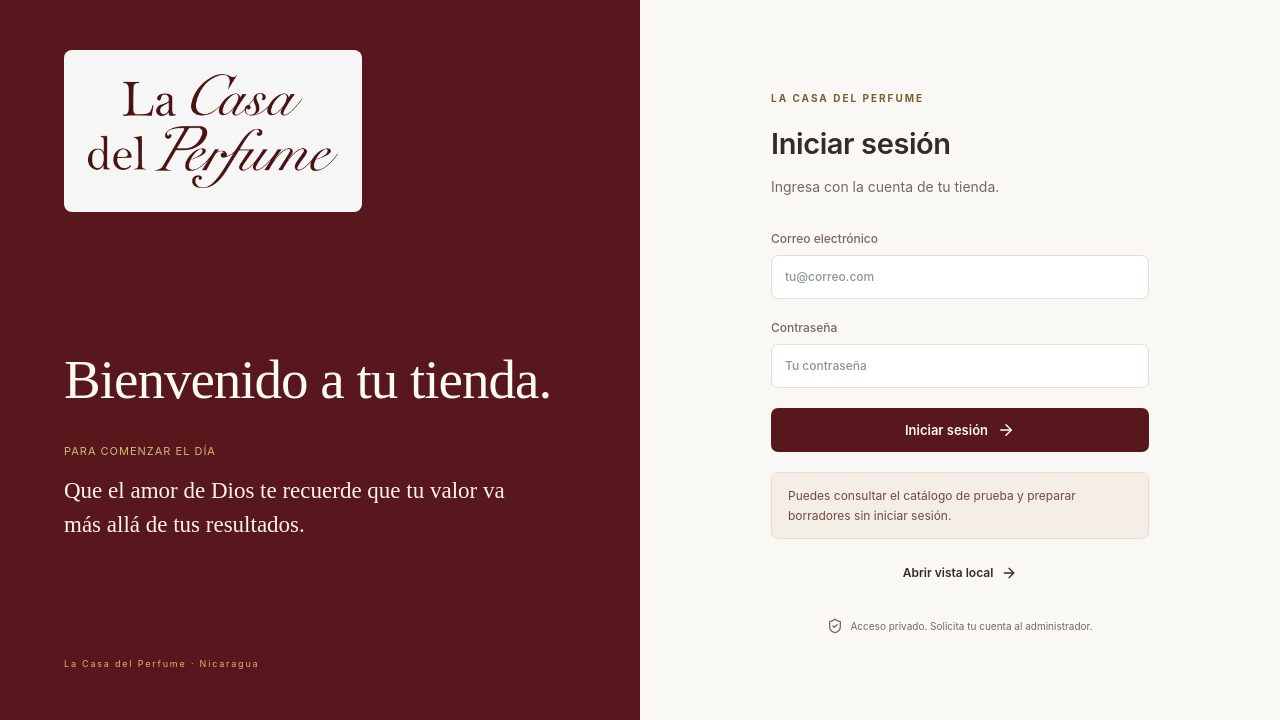
Test: auth flow › handles invalid credentials in the login form
Type "test@example.test" into the field labelled "Correo electrónico" at (960, 277), box [771, 255, 1149, 299]
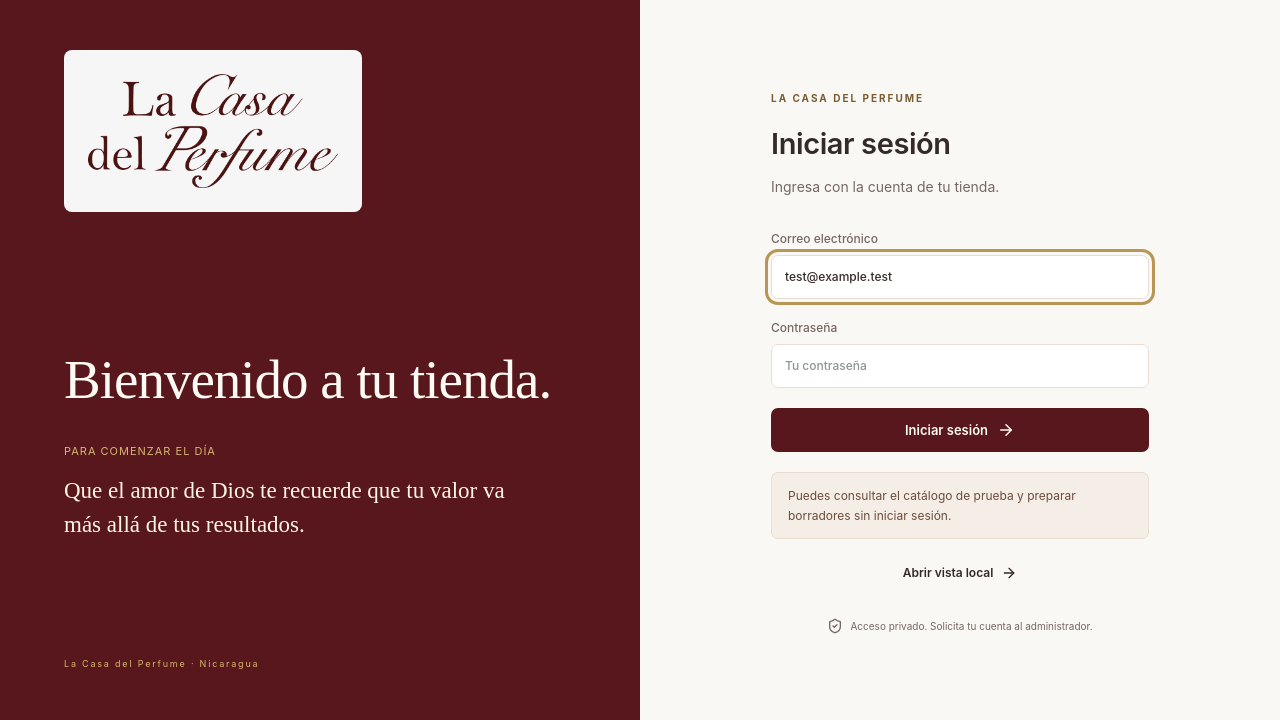
Type "not-a-real-password" into the password field labelled "Contraseña" at (960, 366), box [771, 344, 1149, 388]
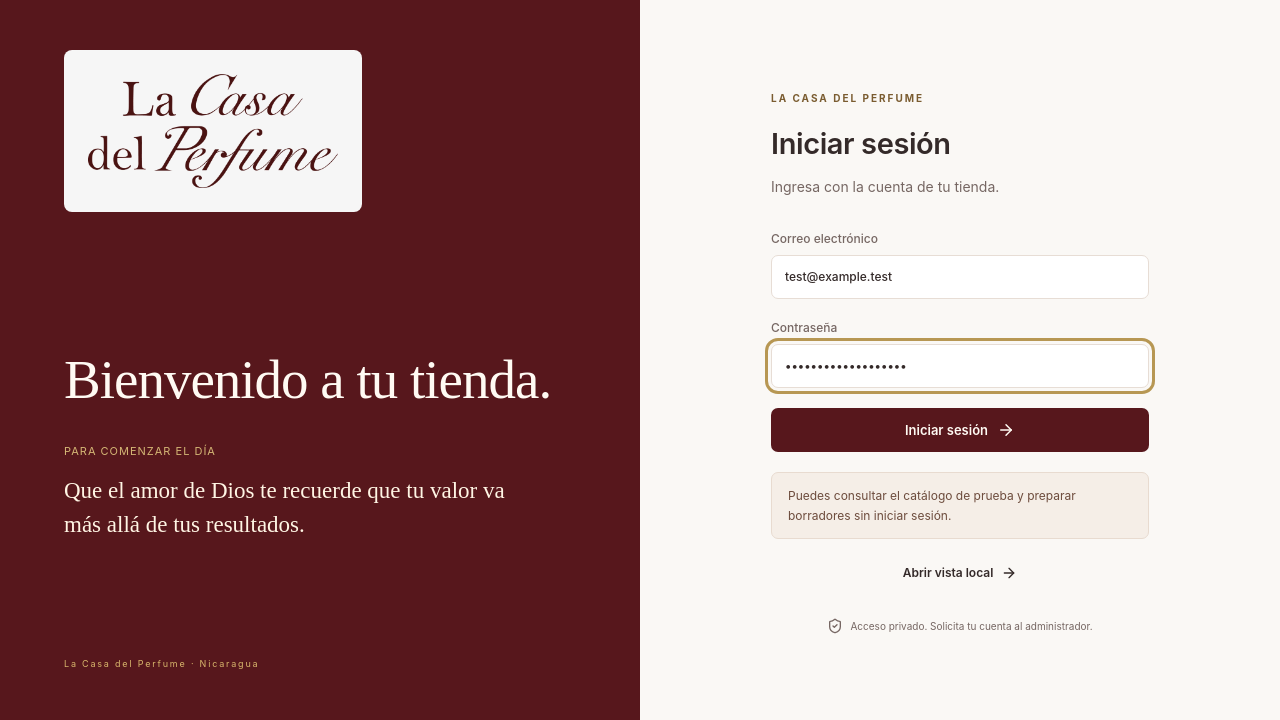
Click the button "Iniciar sesión" at (960, 430), box [771, 408, 1149, 452]
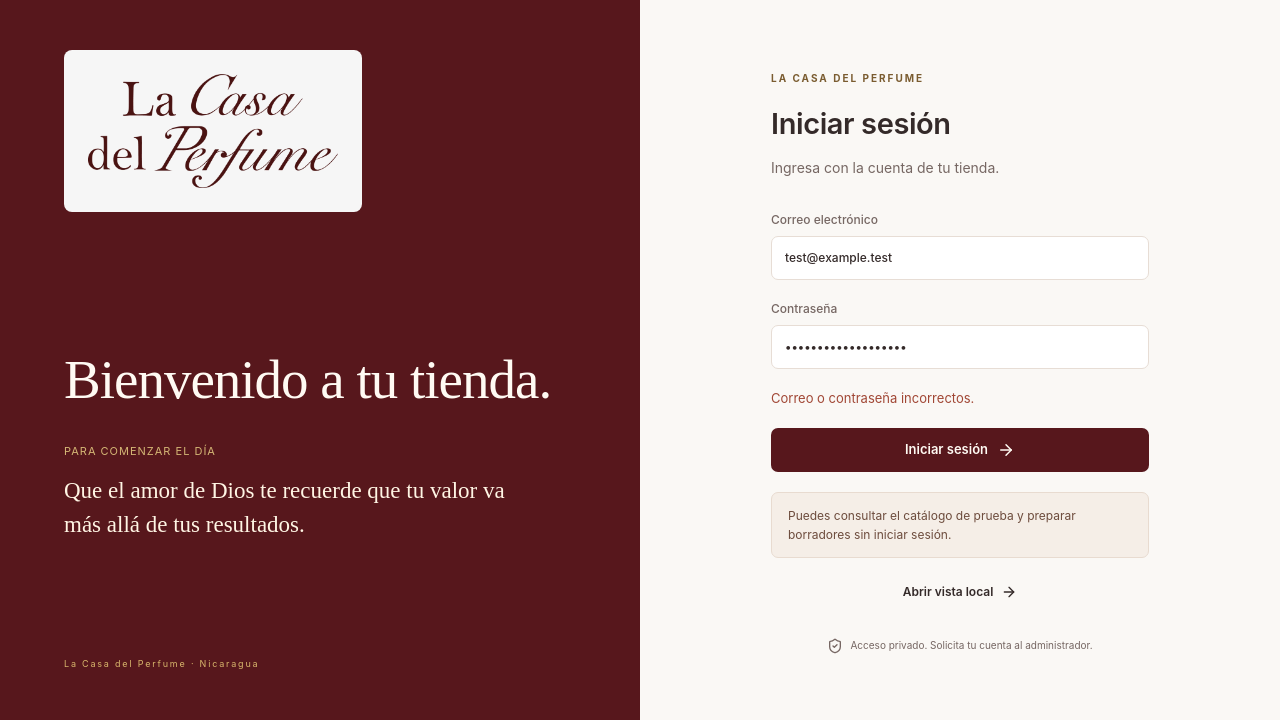
Now the message "Correo o contraseña incorrectos." is shown, box [771, 390, 974, 406]
